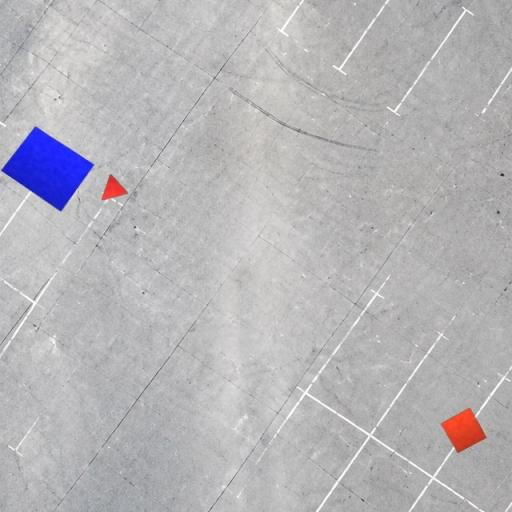BLUE_SQUARE: (1, 126, 95, 212)
RED_SQUARE: (440, 407, 487, 454)
